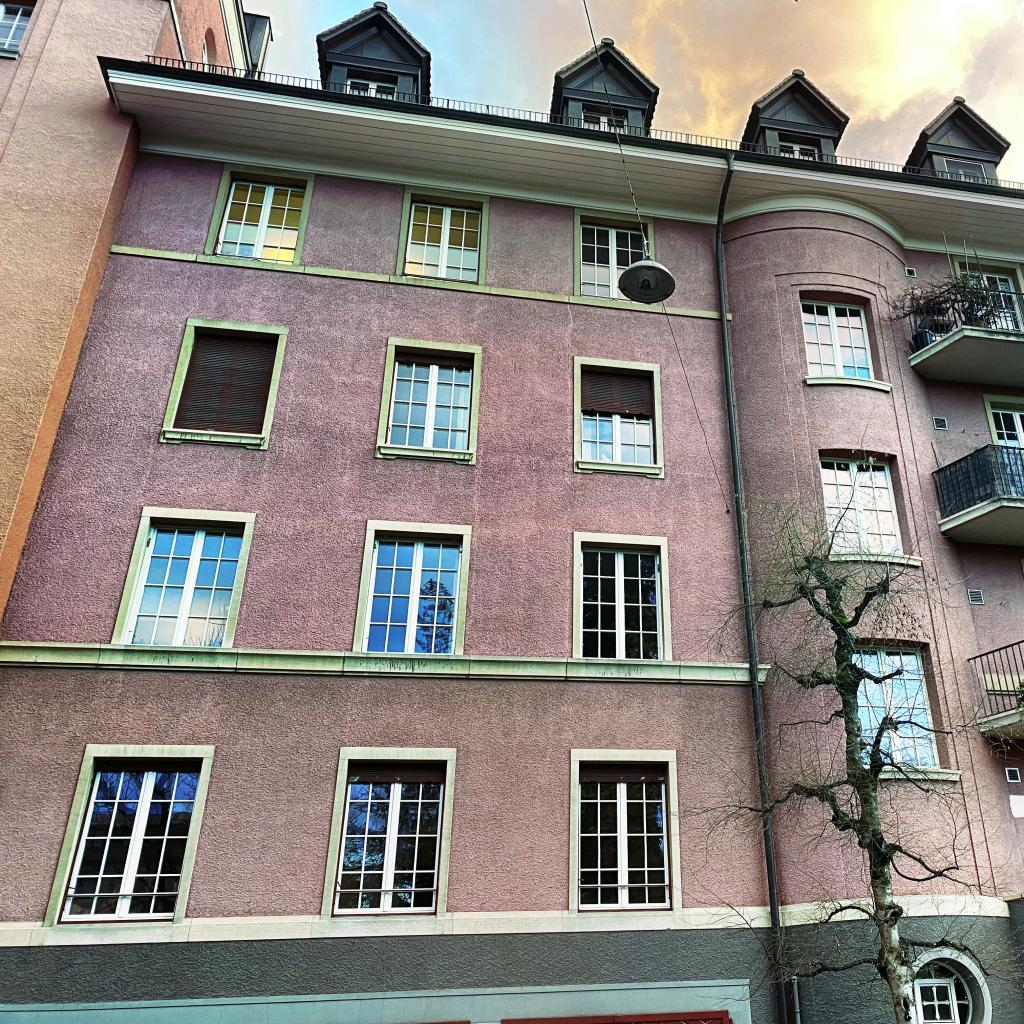balcony-fence: (143, 54, 1024, 192), (904, 284, 1024, 354), (930, 443, 1024, 520), (965, 638, 1024, 720)
vegetation: (666, 449, 1024, 1024)
window: (54, 756, 204, 925), (332, 760, 448, 917), (120, 516, 246, 647), (578, 761, 672, 910), (361, 530, 463, 655), (172, 326, 280, 434), (849, 644, 942, 769), (581, 542, 665, 661), (385, 346, 475, 451), (820, 456, 904, 554), (213, 180, 305, 265), (581, 365, 658, 465), (402, 202, 482, 286), (799, 299, 875, 380), (580, 224, 646, 304), (959, 270, 1024, 330), (991, 408, 1024, 496), (913, 978, 961, 1024), (0, 2, 35, 51), (346, 77, 397, 101), (942, 158, 989, 184), (582, 110, 628, 134), (779, 141, 819, 162)
